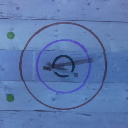Axe Tip: (46, 66, 58, 68)
